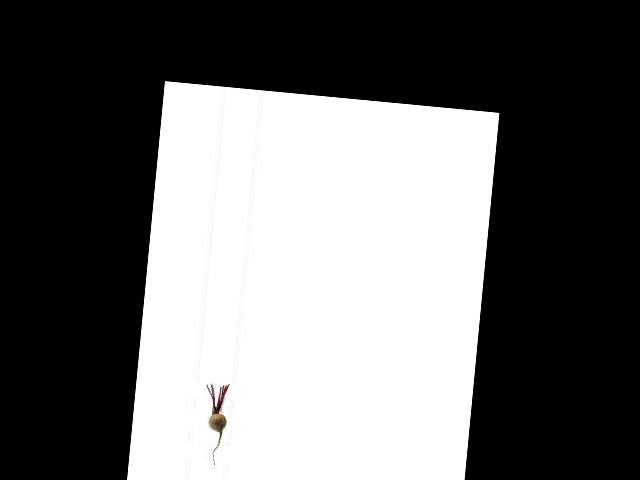beet: (200, 382, 230, 466)
